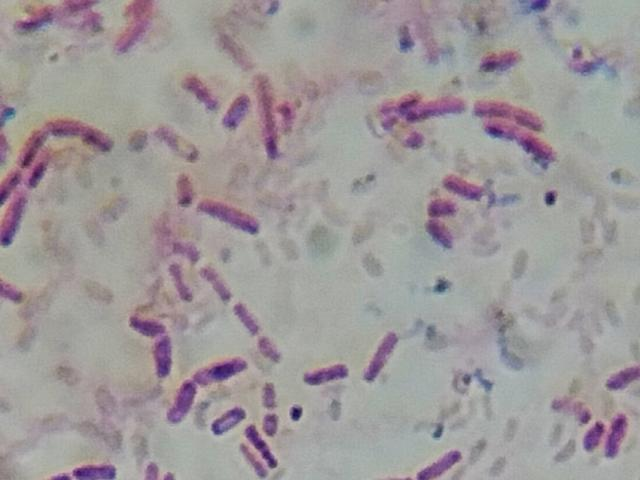E. coli: (255, 66, 286, 162), (481, 127, 559, 160), (131, 310, 169, 376), (198, 199, 263, 235), (476, 93, 545, 126), (361, 330, 403, 382), (19, 3, 95, 31), (116, 5, 152, 59), (193, 352, 250, 386), (48, 456, 128, 480), (49, 119, 108, 150), (413, 439, 456, 480), (153, 125, 195, 166), (158, 257, 193, 304), (386, 107, 417, 160), (196, 256, 230, 302), (603, 358, 640, 400), (408, 96, 469, 121), (172, 376, 198, 433), (476, 45, 525, 75), (2, 192, 27, 250), (238, 427, 269, 472), (226, 302, 261, 336), (2, 267, 34, 303), (608, 409, 629, 463), (445, 169, 485, 197), (188, 67, 218, 103), (425, 217, 455, 253), (253, 339, 293, 365), (301, 363, 353, 382), (18, 125, 46, 160), (223, 87, 244, 131), (213, 406, 246, 434), (169, 239, 206, 263), (173, 170, 193, 213), (581, 421, 609, 451), (148, 456, 182, 480), (31, 156, 58, 185), (423, 193, 443, 217), (263, 382, 279, 409), (1, 170, 17, 194), (266, 415, 279, 439)
